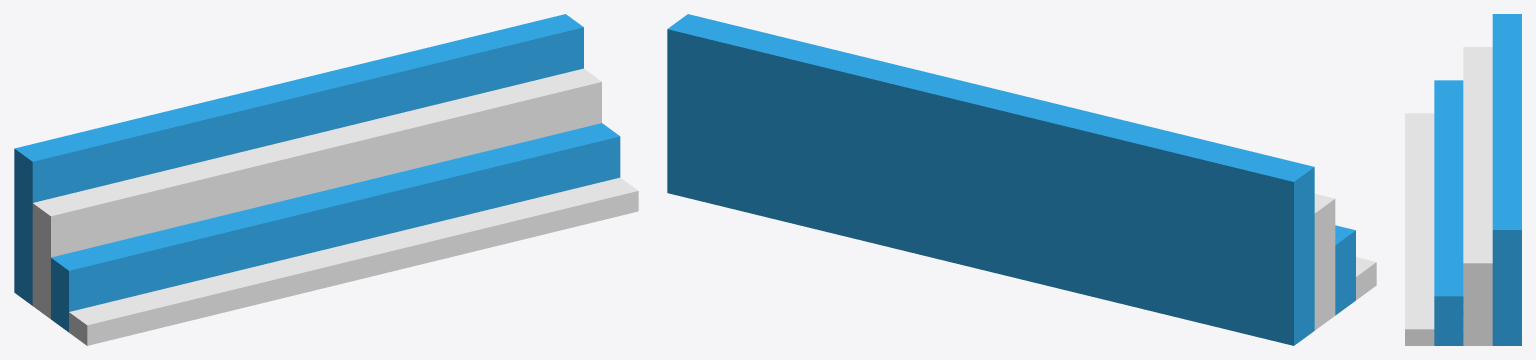
The model's file is stands.glb.
3 views of the same model, side by side, from view 1: azimuth 30°, elevation 25°; view 2: azimuth 150°, elevation 25°; view 3: azimuth 270°, elevation 25° (orthographic). The views are drawn at different scales.
Visible parts, largest first — view 1: Stands; view 2: Stands; view 3: Stands.
Part boxes in pixels (left/top/right/bottom): Stands: left=14, top=14, right=638, bottom=345; Stands: left=667, top=14, right=1376, bottom=345; Stands: left=1405, top=14, right=1521, bottom=345.
Bounding box in the file's own units: 14 × 3.5 × 3.2.
